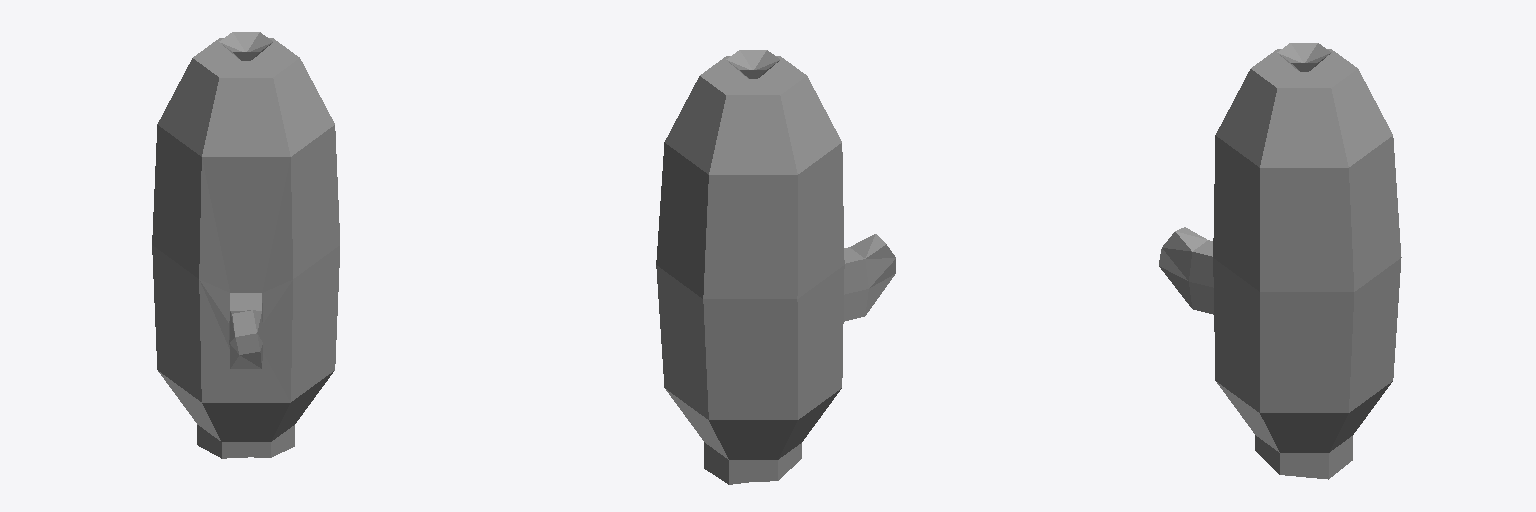
File: Cactus3.obj
3 views of the same model, side by side, from view 1: azimuth 30°, elevation 25°; view 2: azimuth 150°, elevation 25°; view 3: azimuth 270°, elevation 25° (orthographic).
Parts seen in each view (by area): view 1: Cube.001_Cube.004; view 2: Cube.001_Cube.004; view 3: Cube.001_Cube.004.
Part boxes in pixels (bbox=[...]): Cube.001_Cube.004: bbox=[152, 32, 339, 458]; Cube.001_Cube.004: bbox=[656, 50, 895, 484]; Cube.001_Cube.004: bbox=[1159, 43, 1401, 479].
Bounding box in the file's own units: 0.65 × 1.7 × 0.9172.